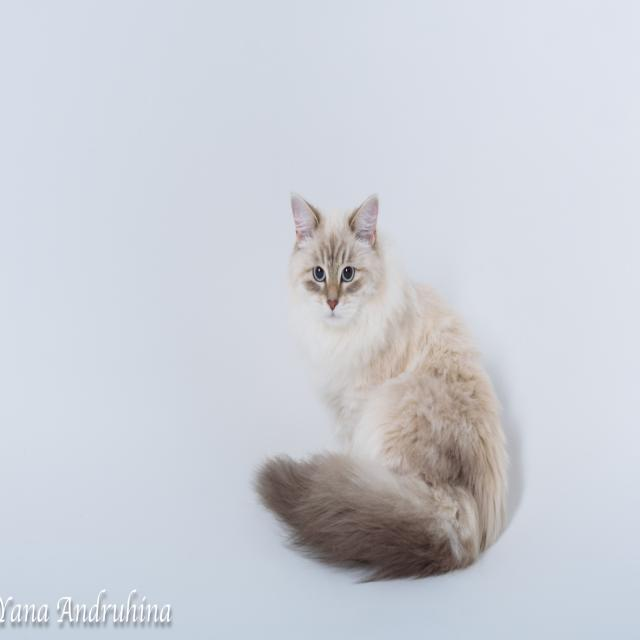Neva Masquerade: (248, 185, 514, 584)
